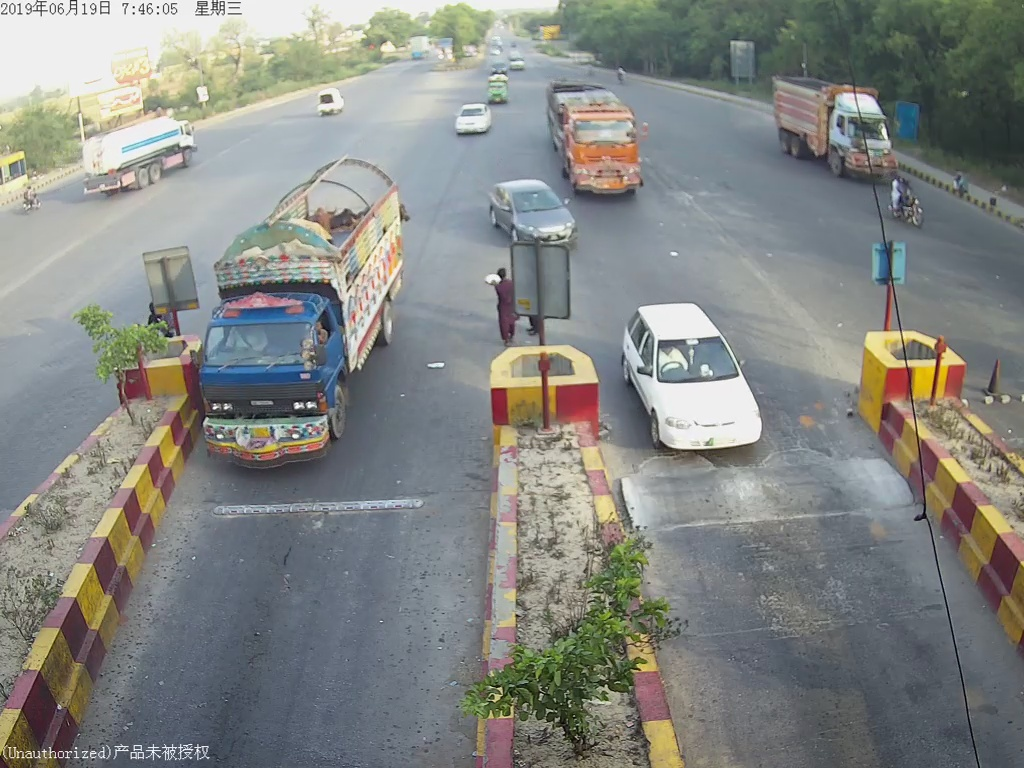Cat-1: (621, 292, 763, 456), (484, 180, 577, 253)
Cat-4: (204, 154, 407, 463)
Cat-5: (548, 83, 655, 197)
